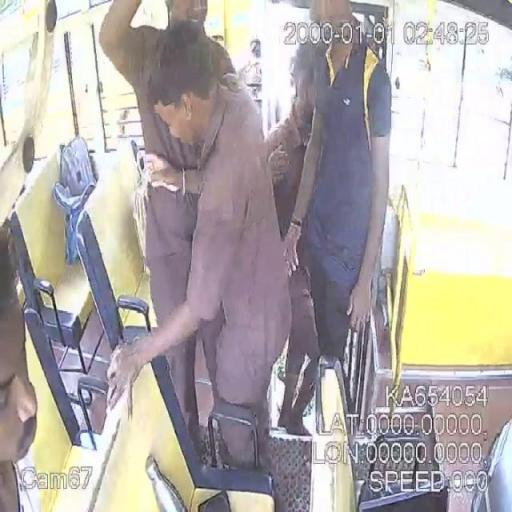persona: (98, 1, 293, 471), (96, 0, 238, 405), (275, 1, 393, 437), (0, 224, 38, 512)
